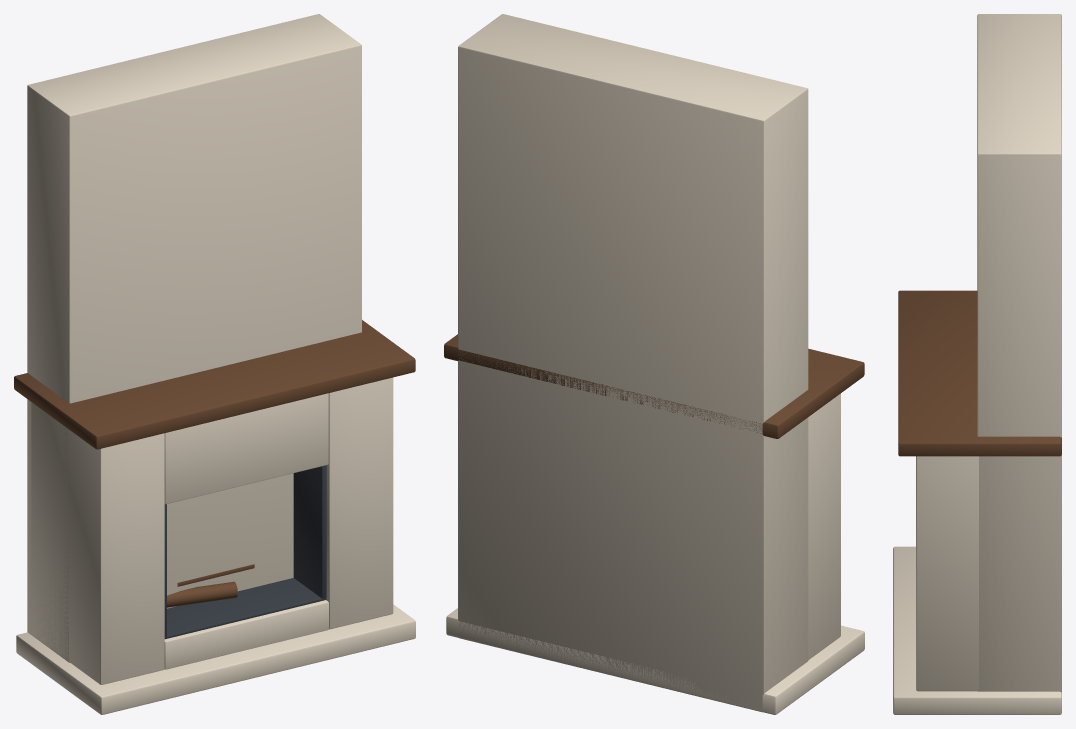
File: fireplace.glb
The picture shows the model from 3 angles, left to right: view 1: azimuth 30°, elevation 25°; view 2: azimuth 150°, elevation 25°; view 3: azimuth 270°, elevation 25°; orthographic projection. The views are drawn at different scales.
Parts seen in each view (by area): view 1: box.001, box.002, box.010, box.003, box, box.004, box.005, box.009, box.008, cyl; view 2: box.001, box.002, box, box.010; view 3: box.001, box.010, box.003, box.
Boxes of the visible parts, left/top/right/bottom form: box.001: left=27, top=14, right=361, bottom=662; box.002: left=31, top=402, right=164, bottom=684; box.010: left=14, top=320, right=415, bottom=449; box.003: left=326, top=377, right=393, bottom=629; box: left=16, top=604, right=415, bottom=714; box.004: left=164, top=393, right=328, bottom=504; box.005: left=164, top=600, right=328, bottom=669; box.009: left=164, top=578, right=326, bottom=639; box.008: left=293, top=465, right=326, bottom=598; cyl: left=167, top=581, right=237, bottom=607; box.001: left=458, top=14, right=808, bottom=712; box.002: left=808, top=393, right=840, bottom=659; box: left=446, top=608, right=864, bottom=714; box.010: left=444, top=334, right=864, bottom=438; box.001: left=977, top=14, right=1061, bottom=692; box.010: left=898, top=290, right=1061, bottom=456; box.003: left=916, top=456, right=978, bottom=691; box: left=893, top=546, right=1061, bottom=714.
Size of the model in its own units: 142 by 240 by 66.
